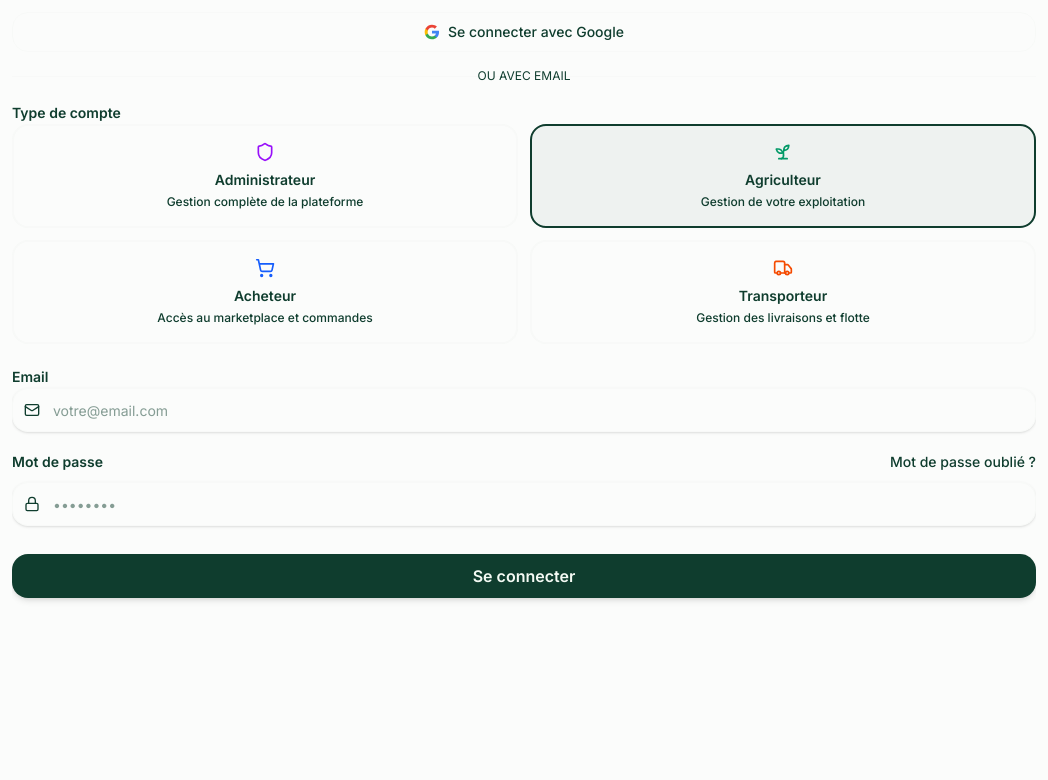
LoginForm › Validation des champs › devrait afficher une erreur si l'email est invalide
Type "email-invalide" into the field labelled "Email" at (524,410), box [12,388,1036,432]
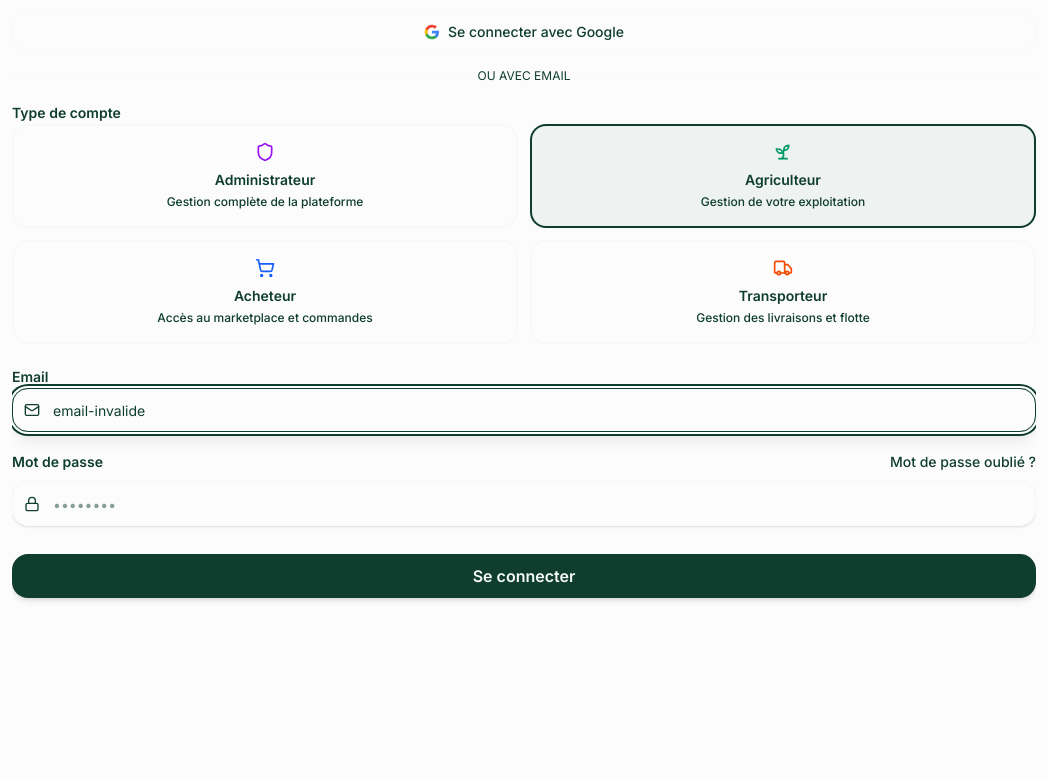
Press Tab
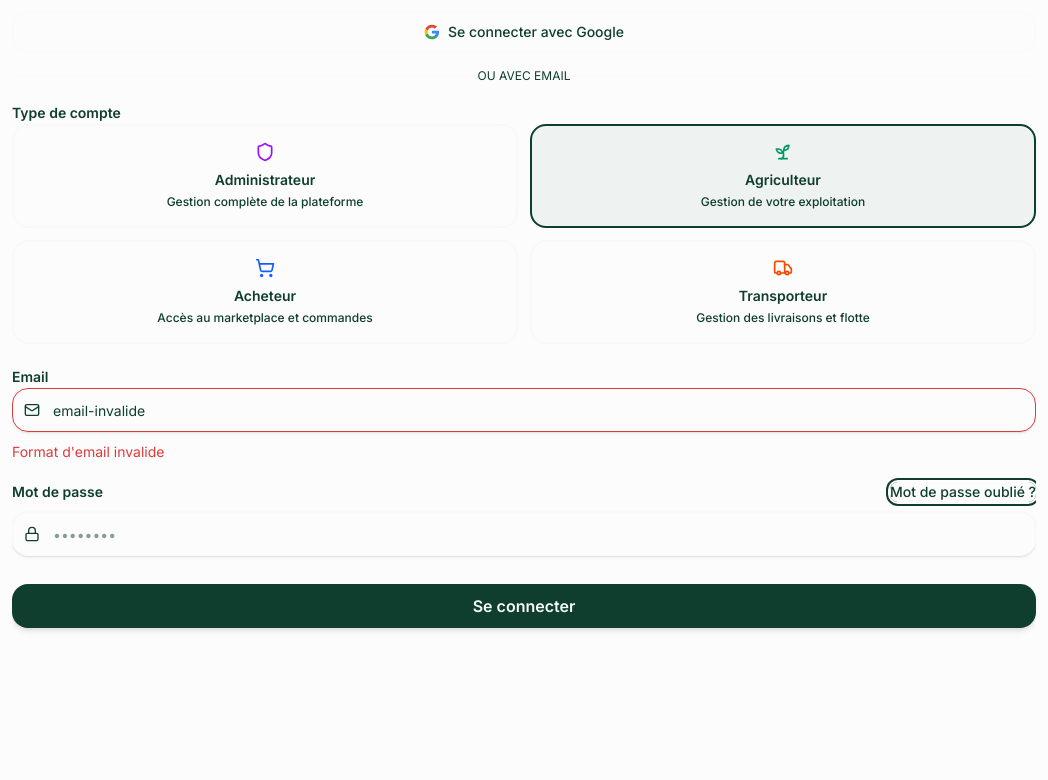
Check: the text "Format d'email invalide" is shown, box [12,443,164,460]
